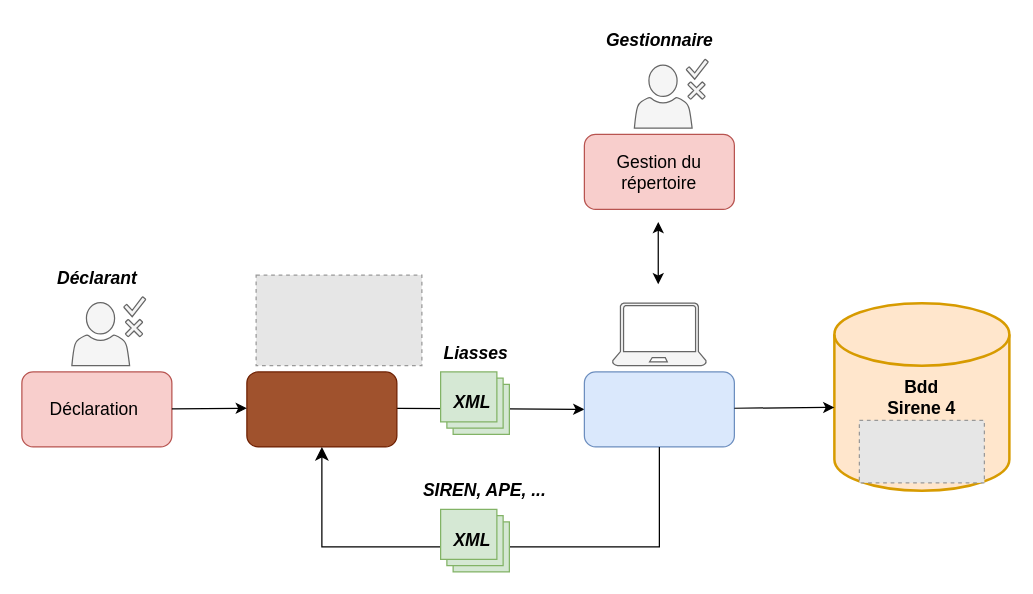
Some shapes in this 1033 by 594 pixel diagram are drawn without their labels. Grey dashed boxes stand in for pictures. Each missing label, with the box of its shape:
Guichet unique: (246, 371, 397, 447)
Sirene 4: (583, 371, 734, 447)
